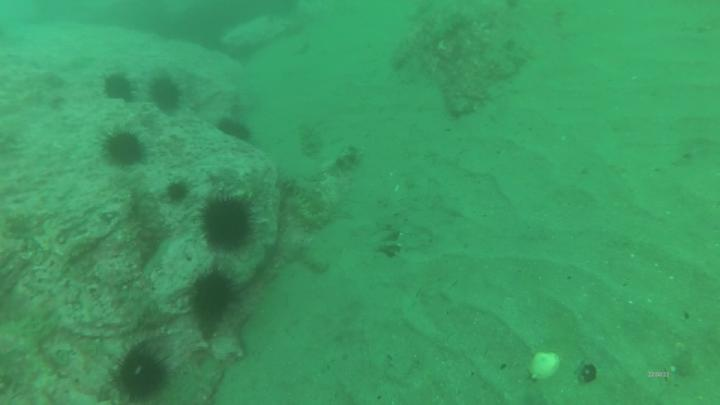echinus: (197, 196, 258, 255), (107, 349, 172, 401), (191, 271, 236, 322), (101, 129, 147, 170), (146, 76, 185, 117), (214, 116, 254, 145), (101, 72, 135, 104), (165, 179, 194, 206)
holothurian: (209, 273, 275, 343), (427, 1, 497, 44), (446, 55, 486, 122), (386, 17, 426, 79), (167, 367, 228, 405), (279, 172, 334, 213), (283, 193, 337, 233), (289, 242, 332, 278), (296, 122, 325, 161)
scallop: (526, 349, 563, 385)
